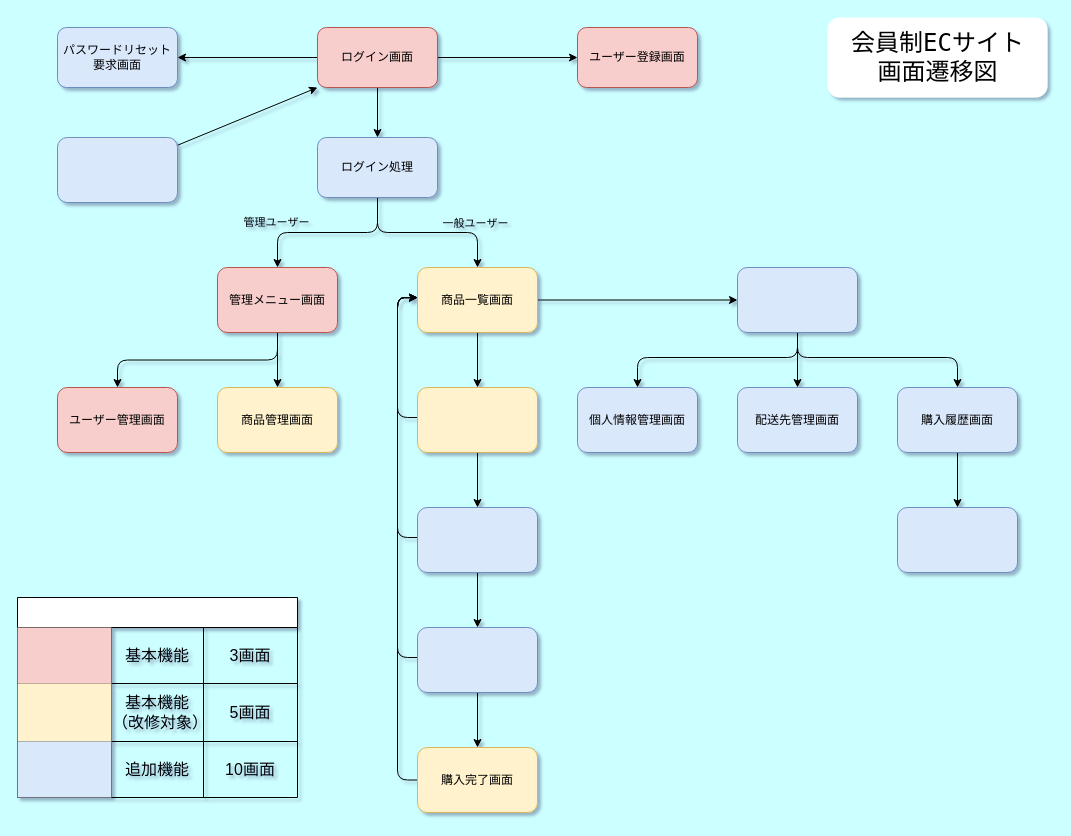
The diagram is 1071 pixels wide and 836 high, and some of its shapes have lost their labels. Each missing label, with the box of its shape:
ショッピングカート 画面: (416, 386, 538, 452)
パスワードリセット実施 画面: (56, 136, 178, 202)
マイページ画面: (736, 266, 858, 332)
凡例: (16, 596, 298, 798)
購入履歴詳細画面: (896, 506, 1018, 572)
購入確認画面: (416, 626, 538, 692)
配送先設定画面: (416, 506, 538, 572)
